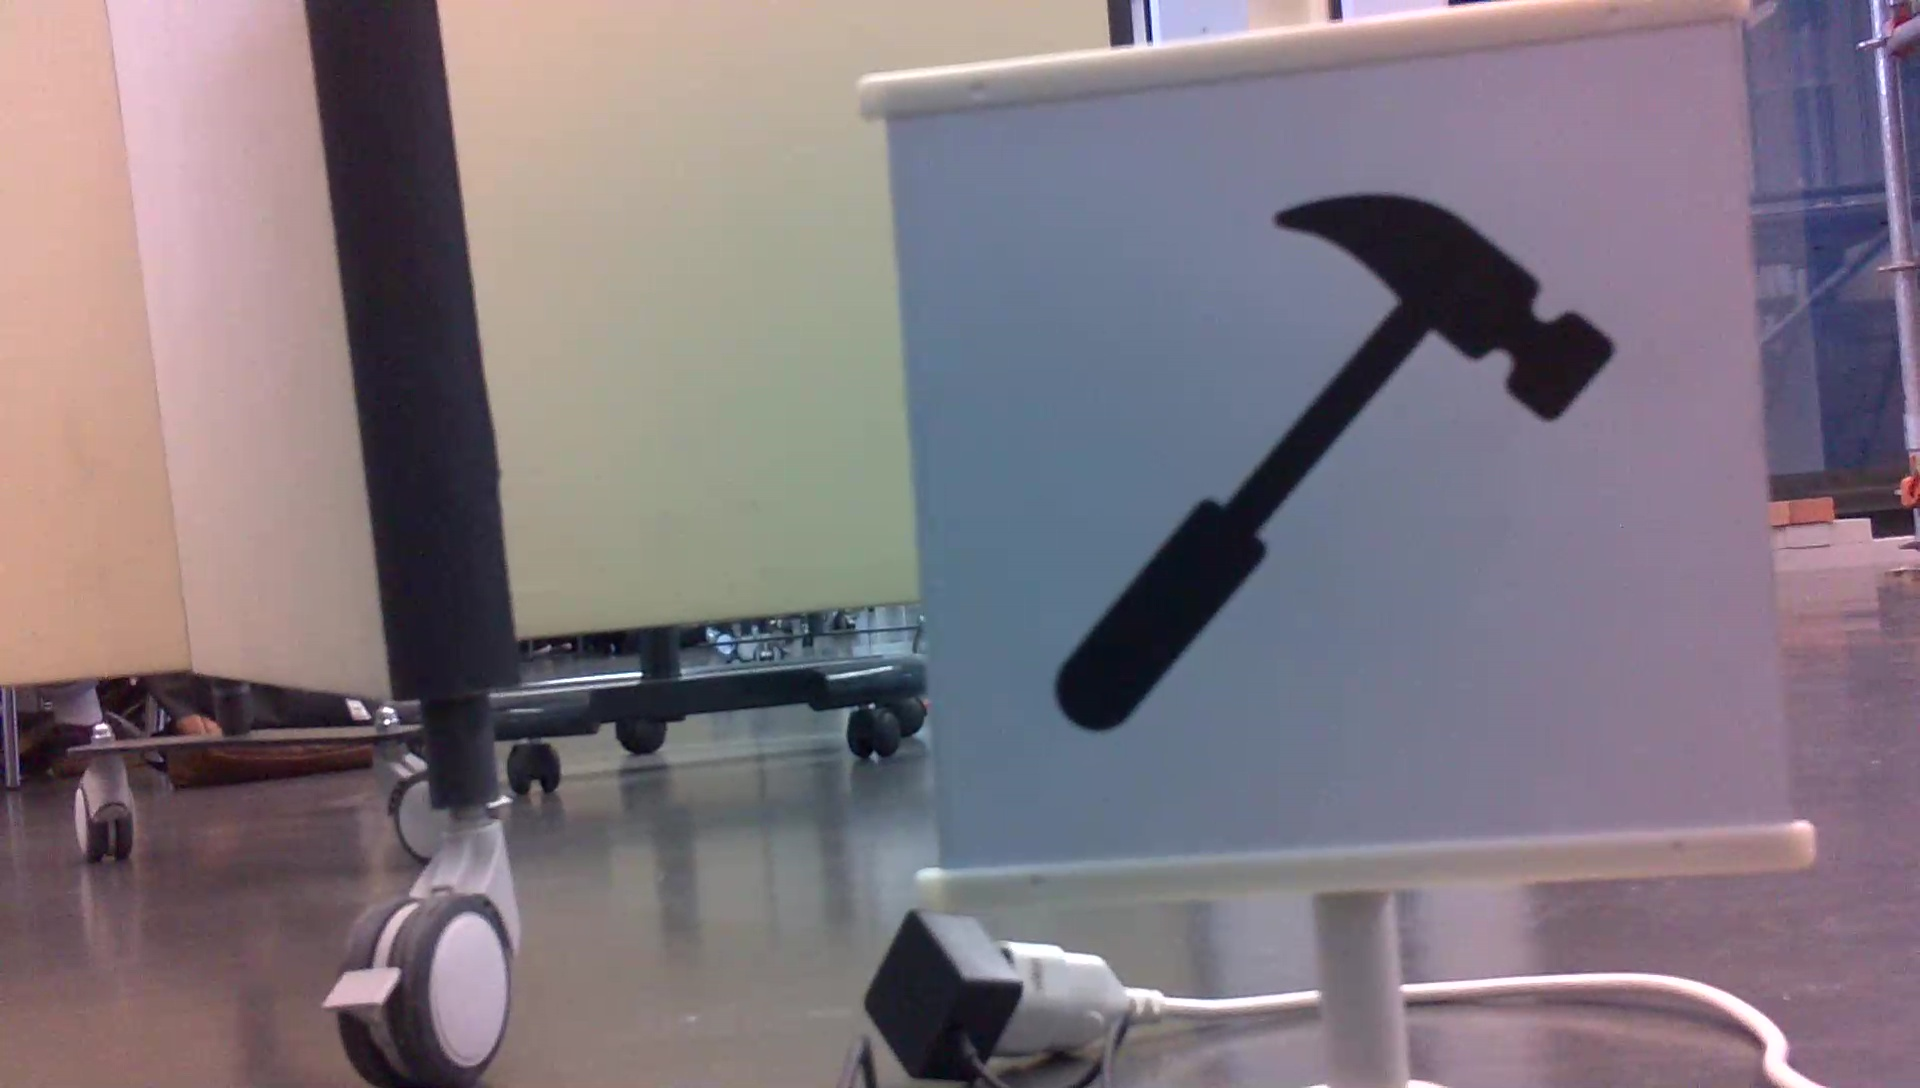hammer: (1039, 186, 1622, 739)
